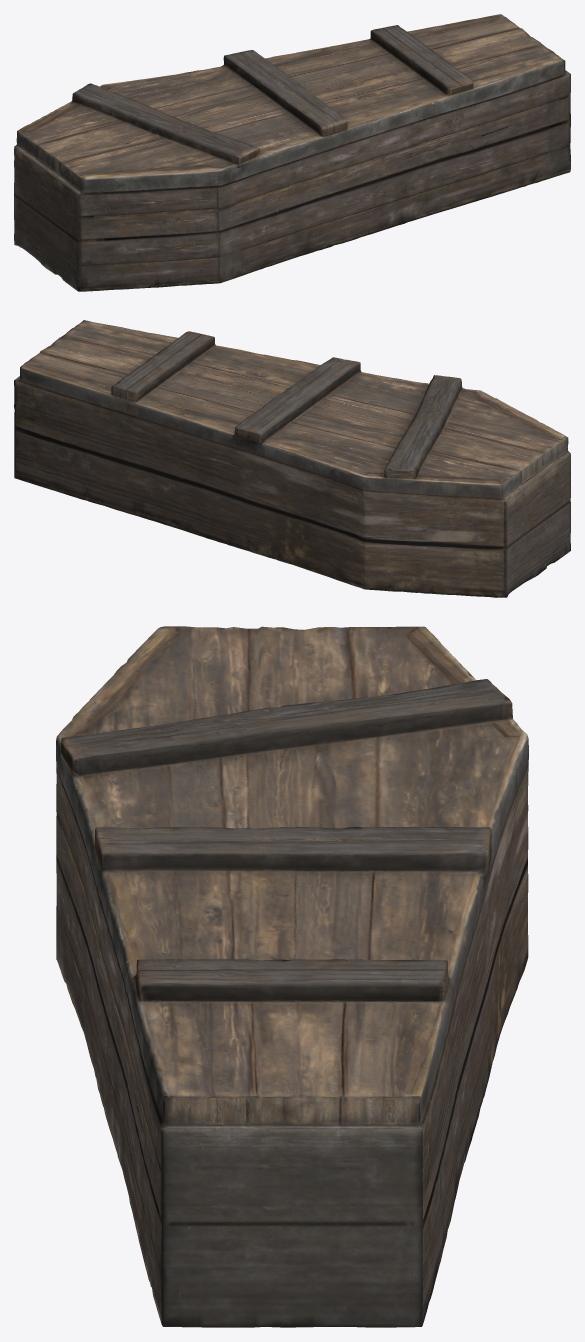
The model's file is Meshy_AI_Old_Wooden_Coffin_1101130144_texture.glb.
3 renders of one model, top to bottom at view 1: azimuth 30°, elevation 25°; view 2: azimuth 150°, elevation 25°; view 3: azimuth 270°, elevation 25°, orthographic. The views are drawn at different scales.
Bounding box in the file's own units: 1.91 × 0.4514 × 0.7948.
1 material, 1 textured.
